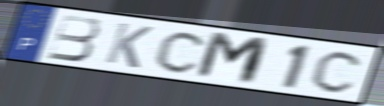1: (281, 43, 314, 90)
B: (45, 13, 102, 63)
C: (309, 49, 367, 95), (152, 30, 210, 75)
K: (102, 20, 155, 70)
M: (192, 30, 272, 88)
